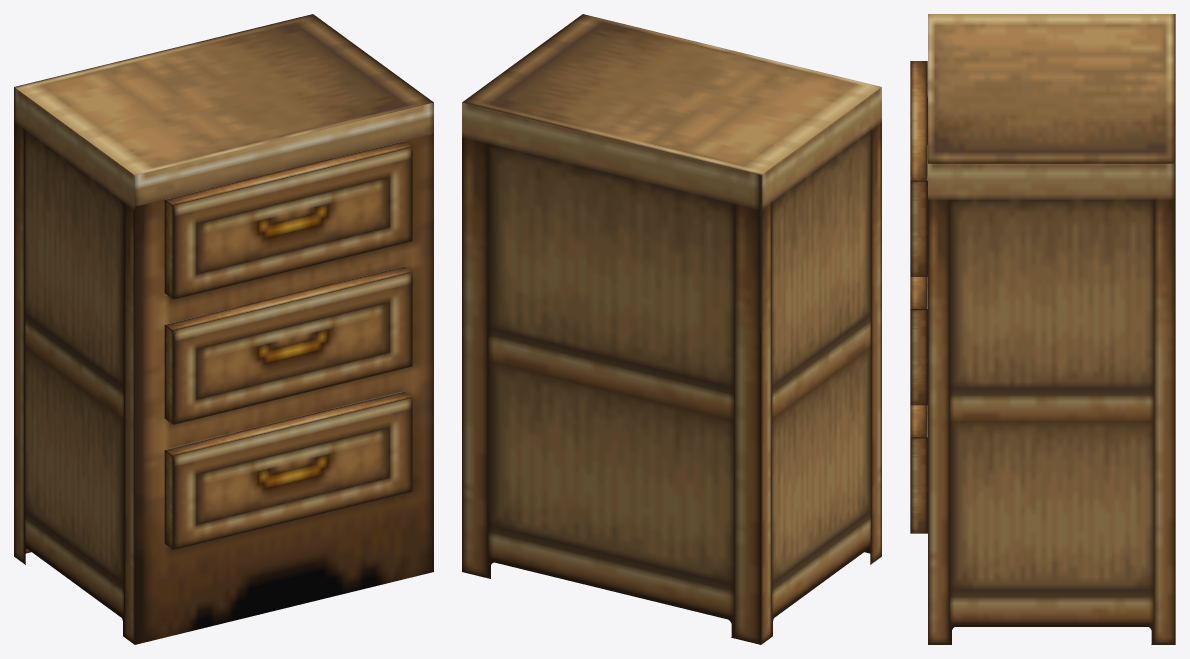
Rendered from Inside_Poly_Shelf_02_With_Drawers.obj.
The picture shows the model from 3 angles, left to right: view 1: azimuth 30°, elevation 25°; view 2: azimuth 150°, elevation 25°; view 3: azimuth 270°, elevation 25°; orthographic projection. The views are drawn at different scales.
Visible parts, largest first — view 1: Drawers, Cube, Cube.006, Cube.002; view 2: Cube, Cube.006, Cube.002; view 3: Cube, Cube.006, Cube.002, Drawers.
Boxes of the visible parts, x1,y1,x2,y2 form: Drawers: (164,141,412,549); Cube: (14,14,433,331); Cube.006: (14,369,433,644); Cube.002: (14,244,433,456); Cube: (462,14,881,331); Cube.006: (462,369,881,644); Cube.002: (462,244,881,456); Cube: (928,14,1175,323); Cube.006: (928,452,1175,644); Cube.002: (928,324,1175,452); Drawers: (910,61,927,533).
Size of the model in its own units: 1 by 1.5 by 0.75.
1 material, 1 textured.
